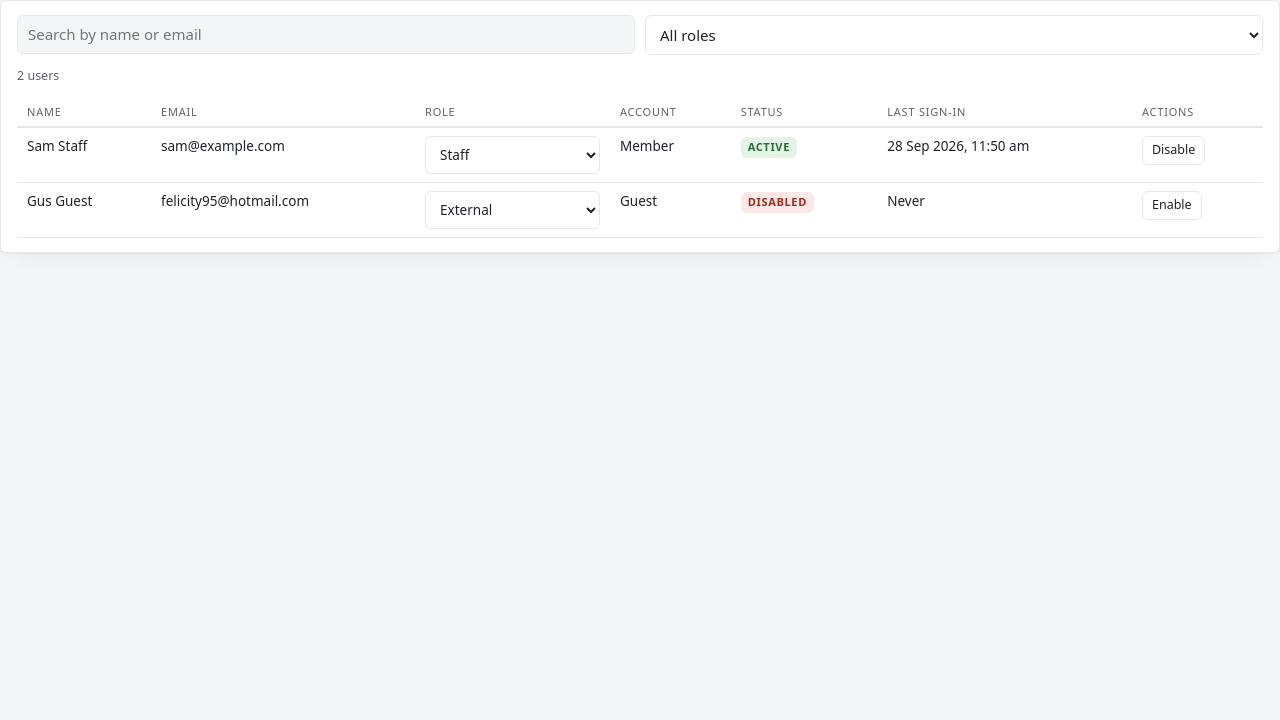
UsersPage changes › disables an active user and enables a disabled one after confirming
Click the button with aria-label "Disable Sam Staff" at (1174, 151), box x1=1142 y1=136 x2=1205 y2=165
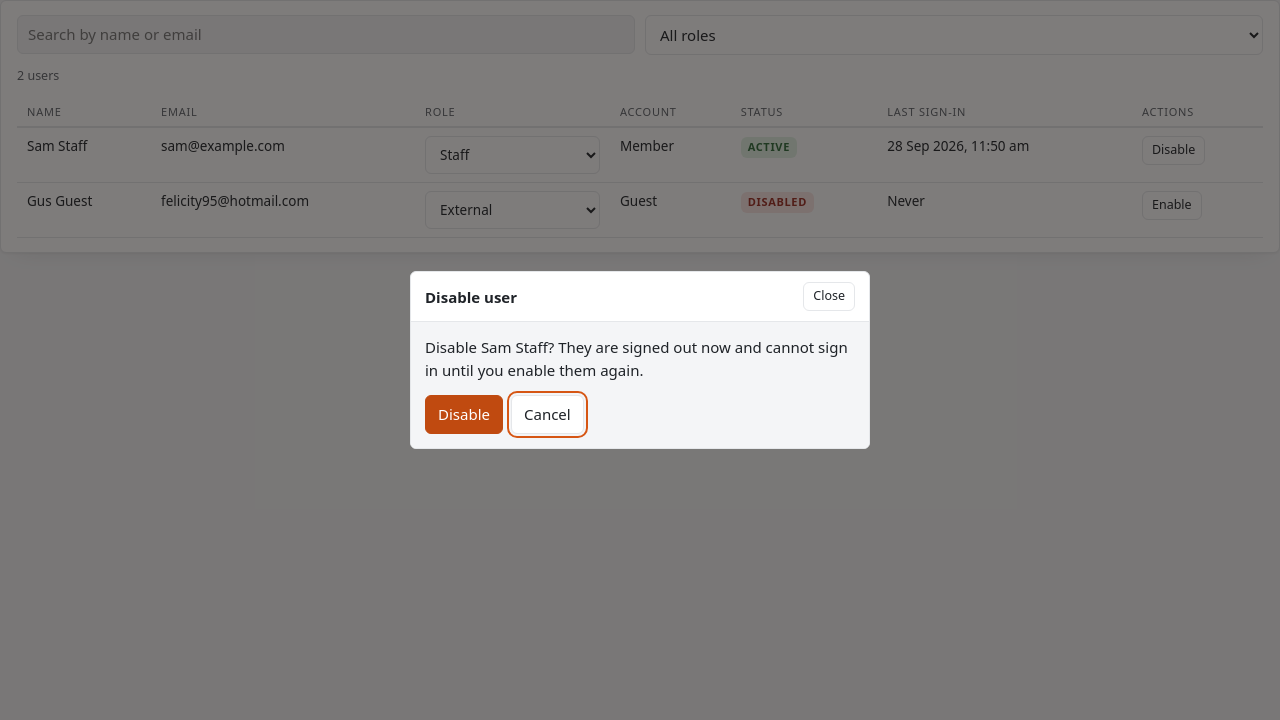
Result: the dialog "Disable user" shows "signed out now" at x1=425 y1=337 x2=848 y2=380
Click the button "Disable" at (464, 414), box x1=425 y1=395 x2=503 y2=434
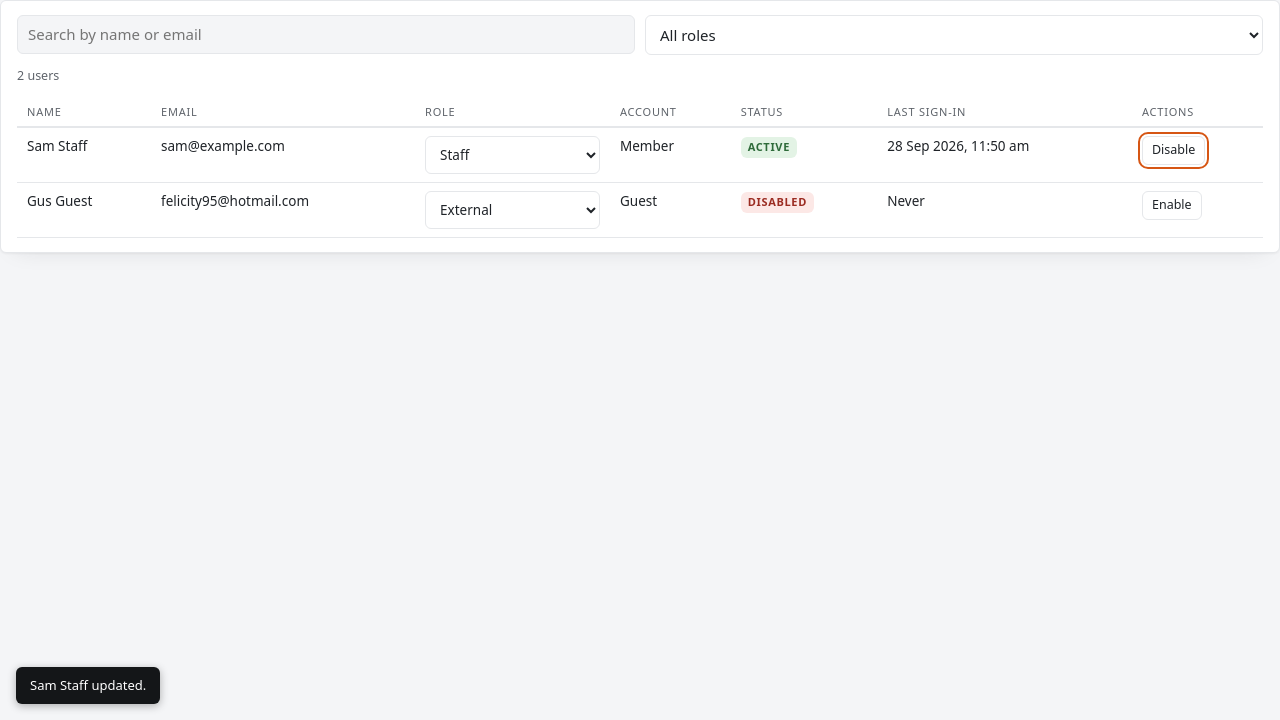
Click the button with aria-label "Enable Gus Guest" at (1172, 206), box x1=1142 y1=191 x2=1202 y2=220
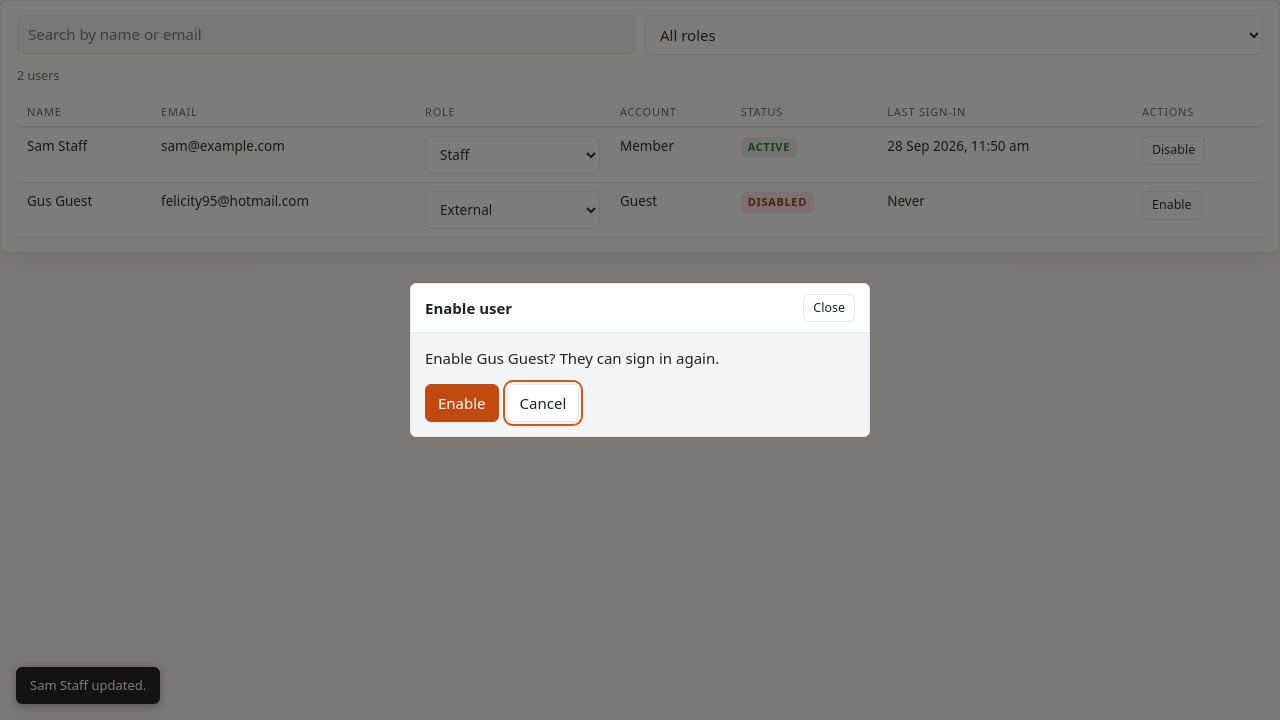
Result: the dialog "Enable user" shows "They can sign in again." at x1=425 y1=348 x2=719 y2=368
